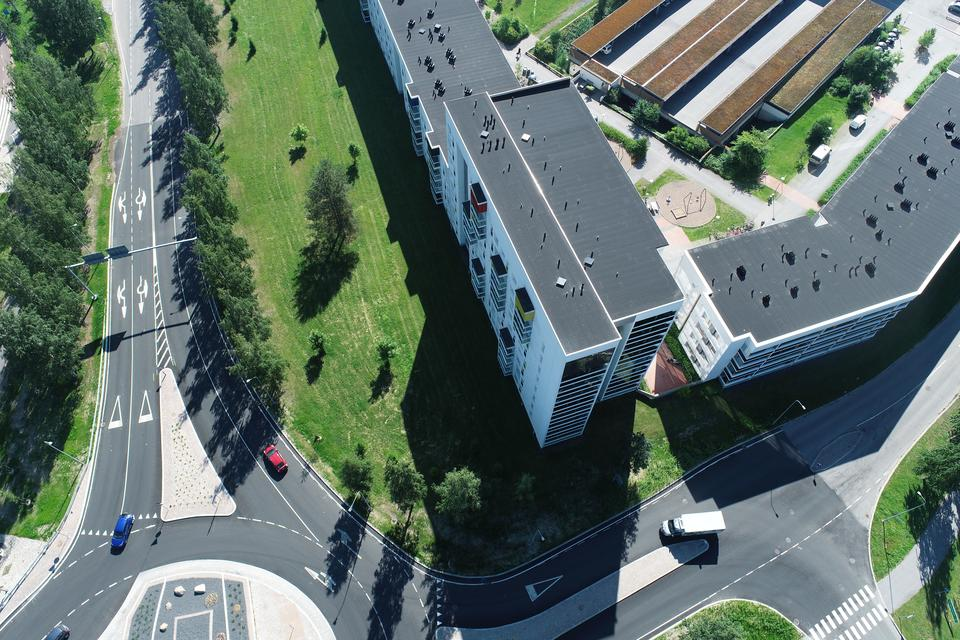intersection: (713, 438, 918, 640)
roundabout: (0, 444, 476, 640)
